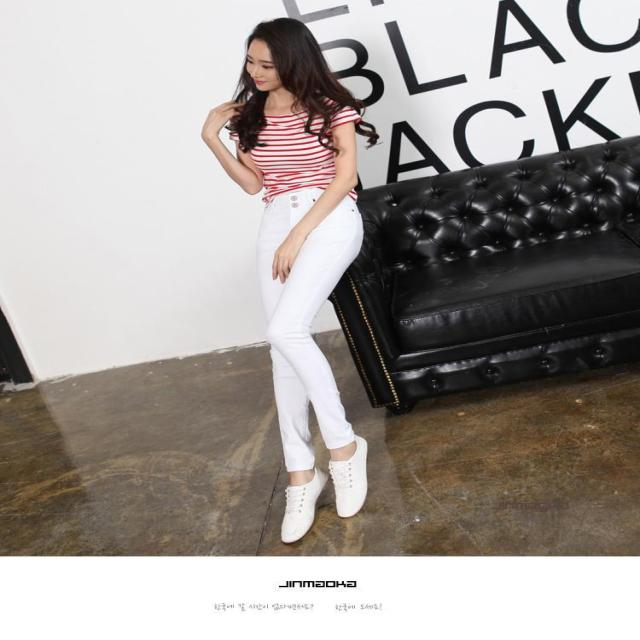short sleeve top: (230, 90, 363, 206)
trousers: (259, 190, 357, 451)
